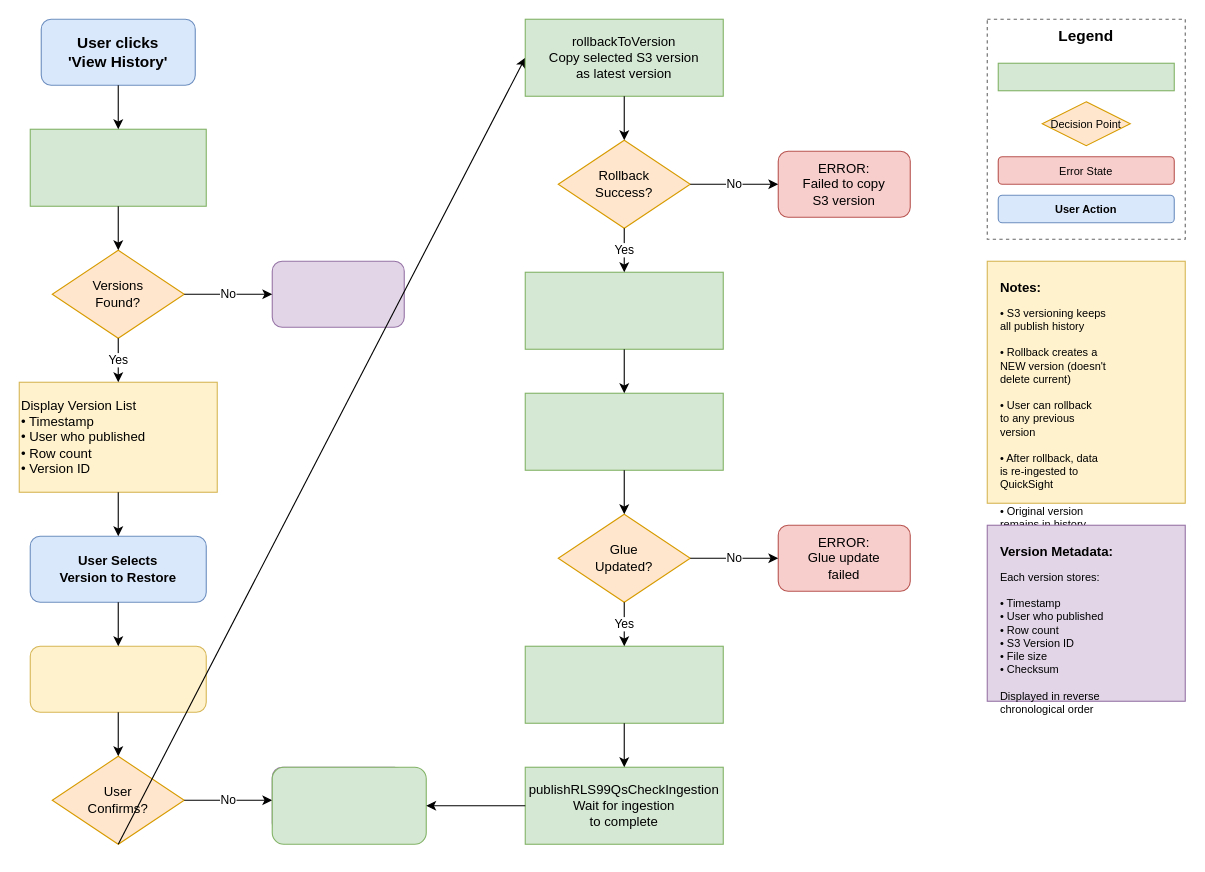
Some shapes in this 1205 by 872 pixel diagram are drawn without their labels. Here are the shapes that lost their labels. From the top down, the centre of each, then its label:
At point 1085,76: "Lambda Function".
At point 117,167: "listPublishHistory Fetch all S3 versions with metadata".
At point 337,293: "No History Available".
At point 623,310: "getVersionContent Read restored CSV from S3".
At point 623,431: "publishRLS02Glue Update Glue Table with restored data".
At point 117,678: "Confirmation Dialog 'Restore this version?'".
At point 623,684: "Trigger SPICE Refresh QuickSight ingests restored data".
At point 348,805: "SUCCESS! Version Restored RLS Active".
